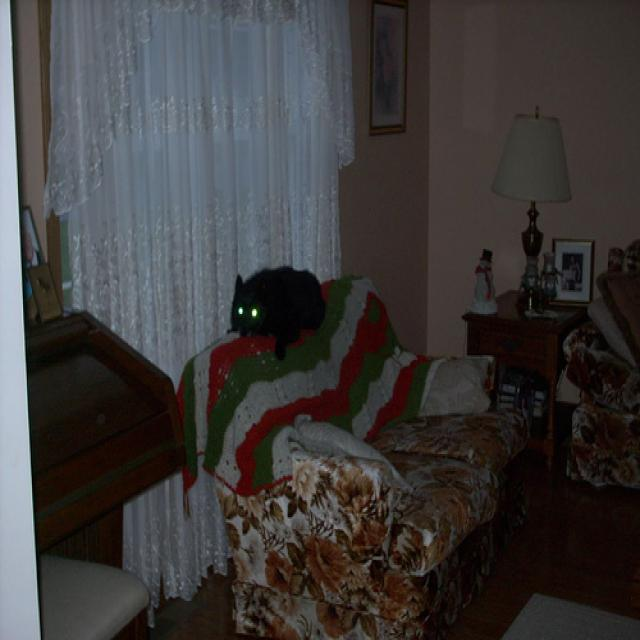Table: (3, 313, 169, 636), (463, 289, 589, 456)
chair: (160, 348, 510, 640), (526, 306, 640, 546)
dog: (220, 252, 357, 351)
